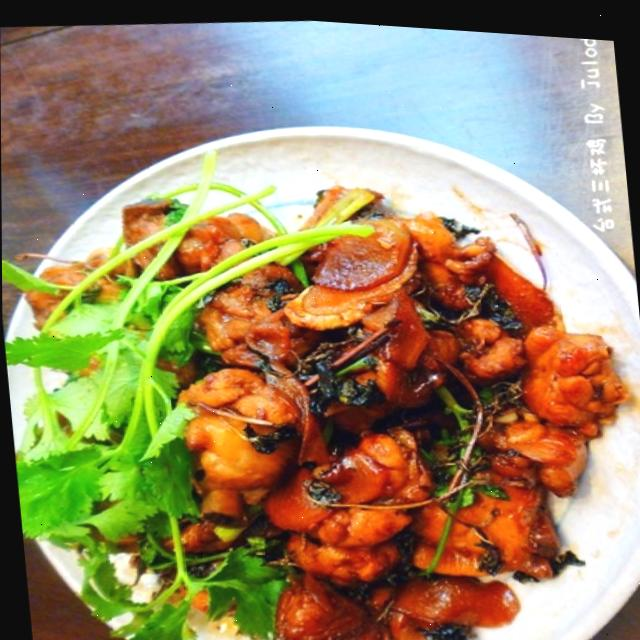鸡肉料理 含炸鸡: (18, 82, 640, 640)
